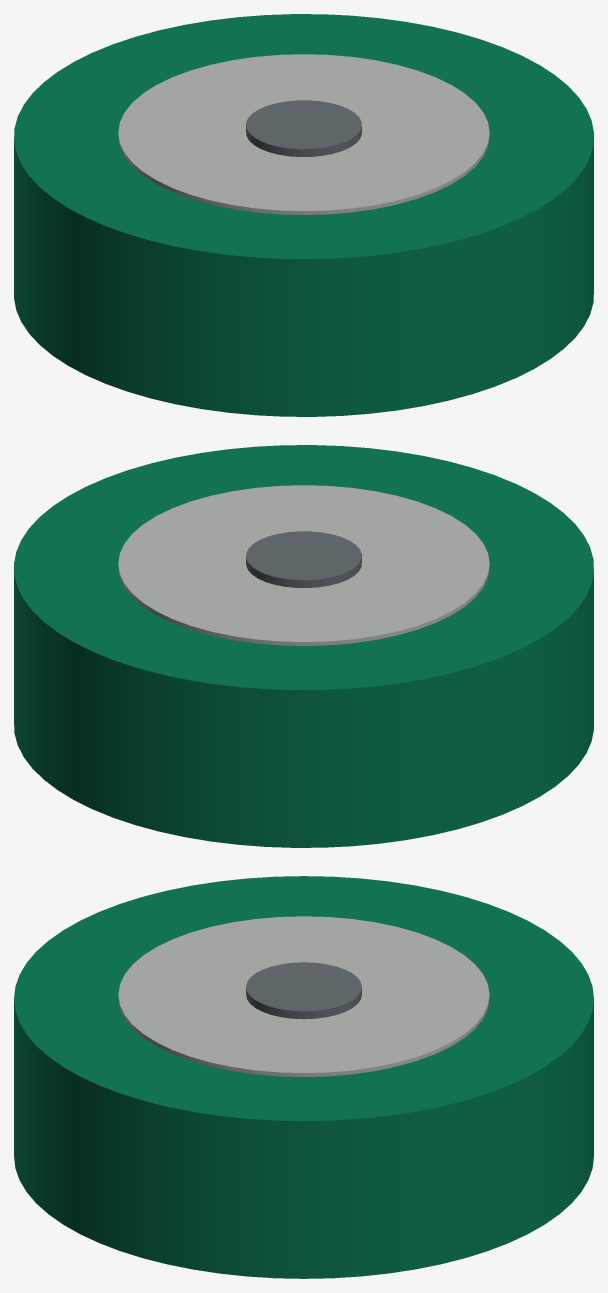
File: left_wheel_link.obj
The picture shows the model from 3 angles, top to bottom: view 1: azimuth 30°, elevation 25°; view 2: azimuth 150°, elevation 25°; view 3: azimuth 270°, elevation 25°; orthographic projection.
Parts seen in each view (by area): view 1: left_wheel_link_tyre, left_wheel_link_hub, left_wheel_link_axle_1; view 2: left_wheel_link_tyre, left_wheel_link_hub, left_wheel_link_axle_1; view 3: left_wheel_link_tyre, left_wheel_link_hub, left_wheel_link_axle_1.
Part boxes in pixels (left/top/right/bottom): left_wheel_link_tyre: left=14, top=14, right=593, bottom=416; left_wheel_link_hub: left=118, top=54, right=489, bottom=214; left_wheel_link_axle_1: left=246, top=100, right=361, bottom=156; left_wheel_link_tyre: left=14, top=445, right=593, bottom=847; left_wheel_link_hub: left=118, top=485, right=489, bottom=645; left_wheel_link_axle_1: left=246, top=531, right=361, bottom=587; left_wheel_link_tyre: left=14, top=876, right=593, bottom=1278; left_wheel_link_hub: left=118, top=916, right=489, bottom=1076; left_wheel_link_axle_1: left=246, top=962, right=361, bottom=1019.
Bounding box in the file's own units: 0.2 × 0.069 × 0.2.
